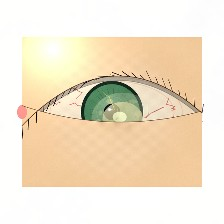corneal_ulcer: (90, 93, 155, 145)
